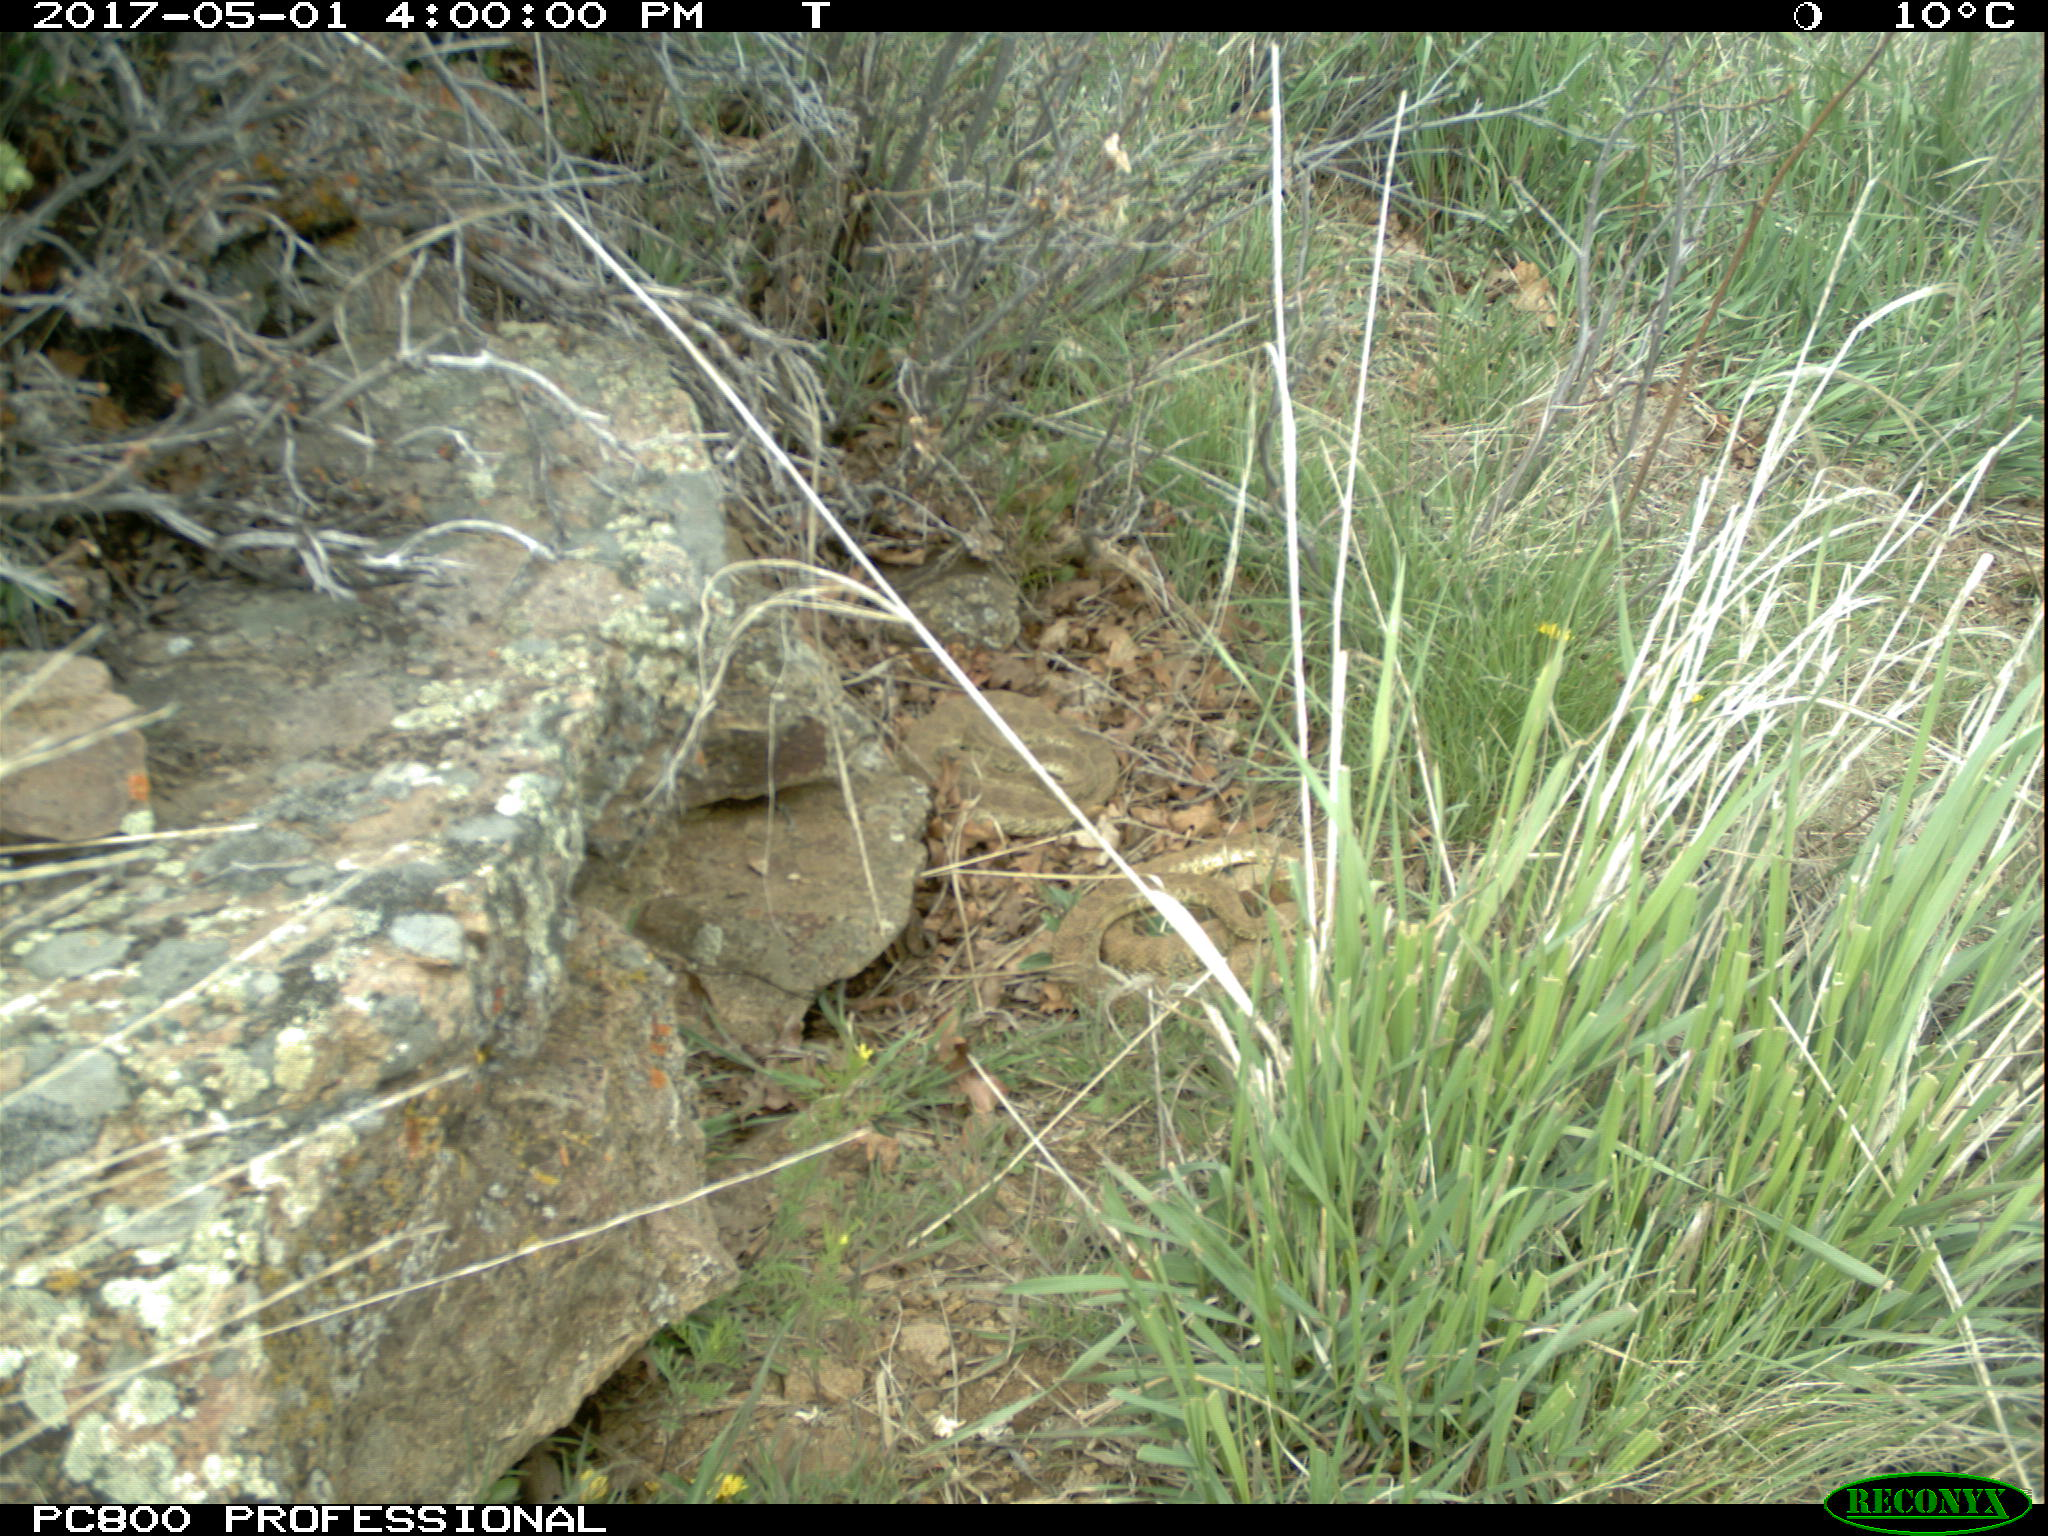snake: (1045, 831, 1338, 1016), (913, 689, 1127, 837)
